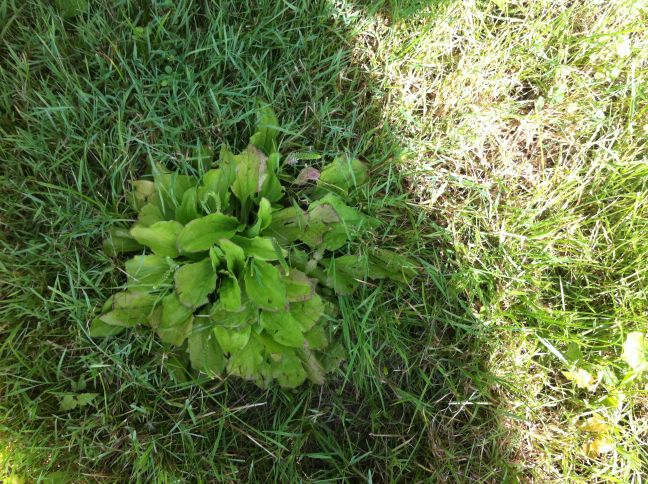weed1: (102, 104, 377, 390)
